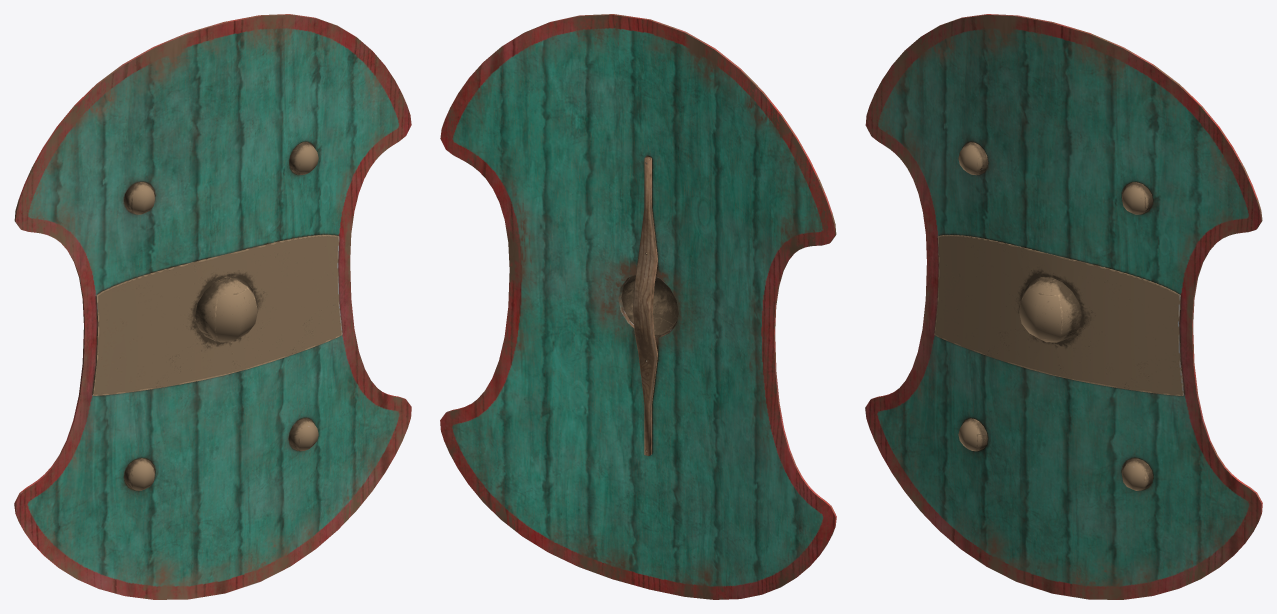
The model's file is wooden_sheild.glb.
3 views of the same model, side by side, from view 1: azimuth 30°, elevation 25°; view 2: azimuth 150°, elevation 25°; view 3: azimuth 330°, elevation 25° (orthographic).
Parts seen in each view (by area): view 1: Plane; view 2: Plane; view 3: Plane.
Boxes of the visible parts, x1,y1,x2,y2 form: Plane: (14,14,411,599); Plane: (440,14,836,599); Plane: (865,14,1262,599).
Bounding box in the file's own units: 1.95 × 2.69 × 0.2492.
Materials: 1 (1 with a texture image).
